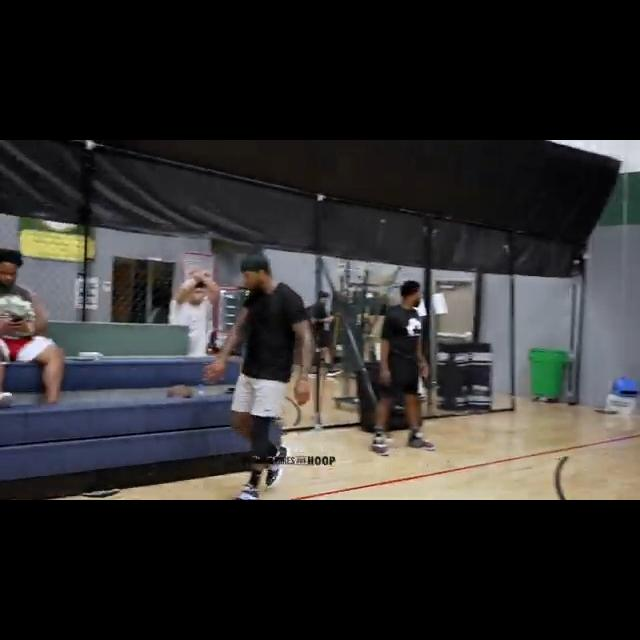person: (205, 258, 319, 500), (368, 279, 438, 455), (0, 251, 68, 408), (170, 262, 218, 363), (303, 290, 344, 384)
